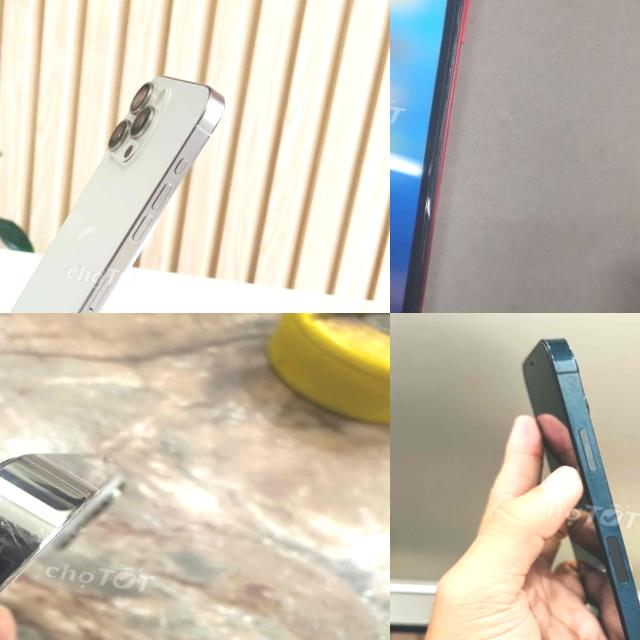scratch: (0, 479, 95, 570)
